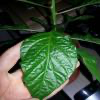Bell_pepper leaf: (20, 30, 78, 100)
